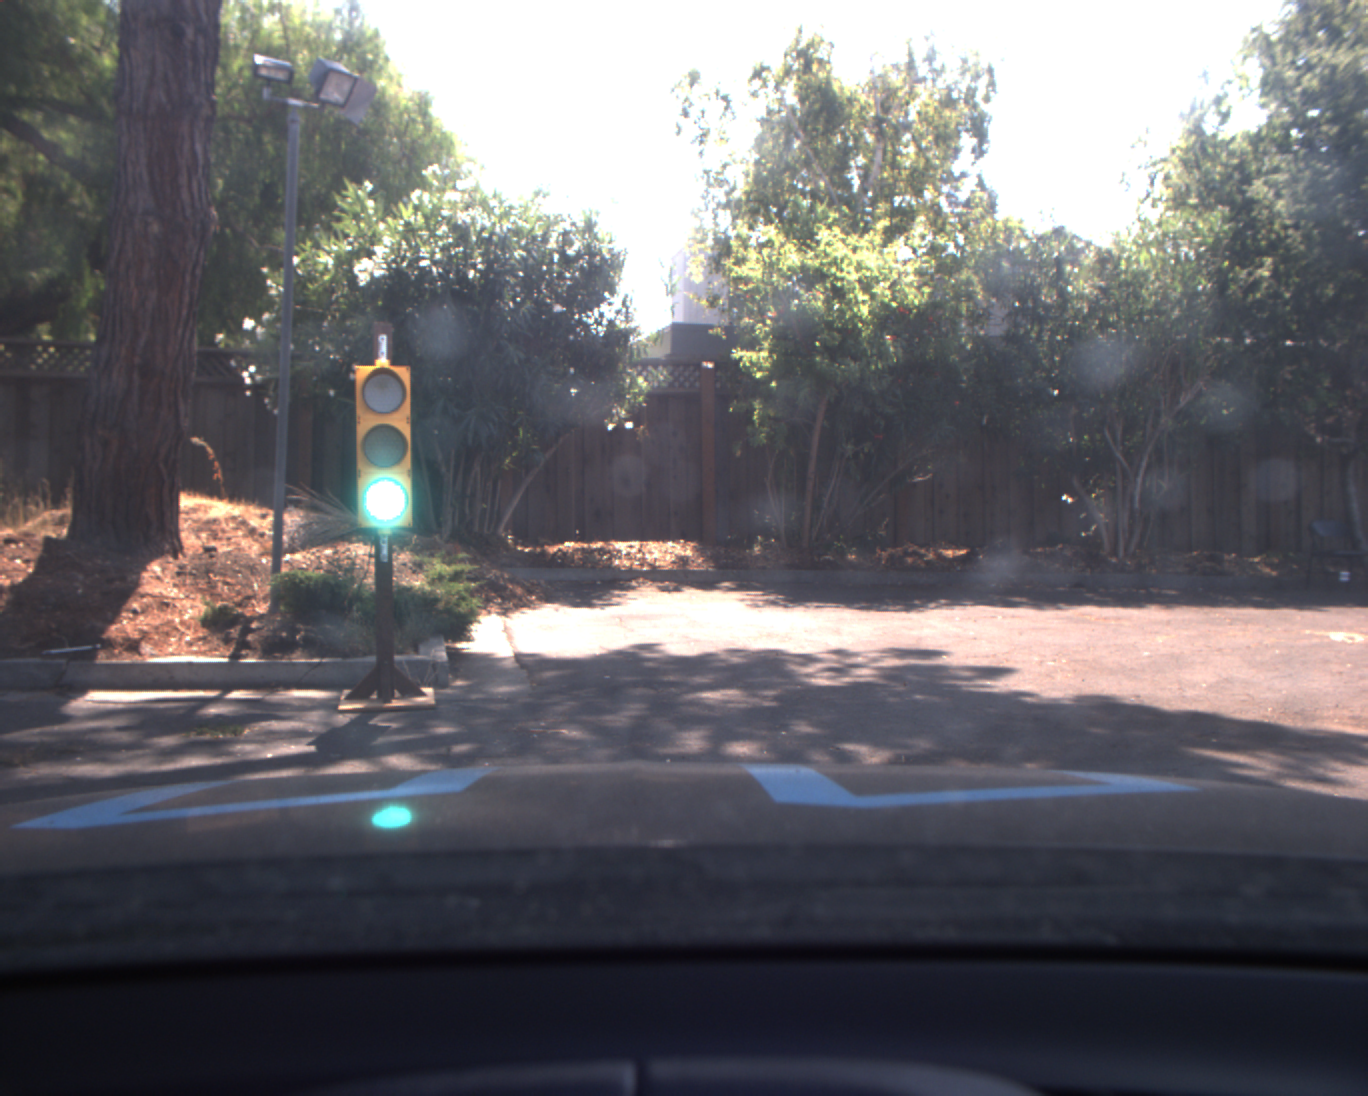green: (350, 362, 415, 533)
